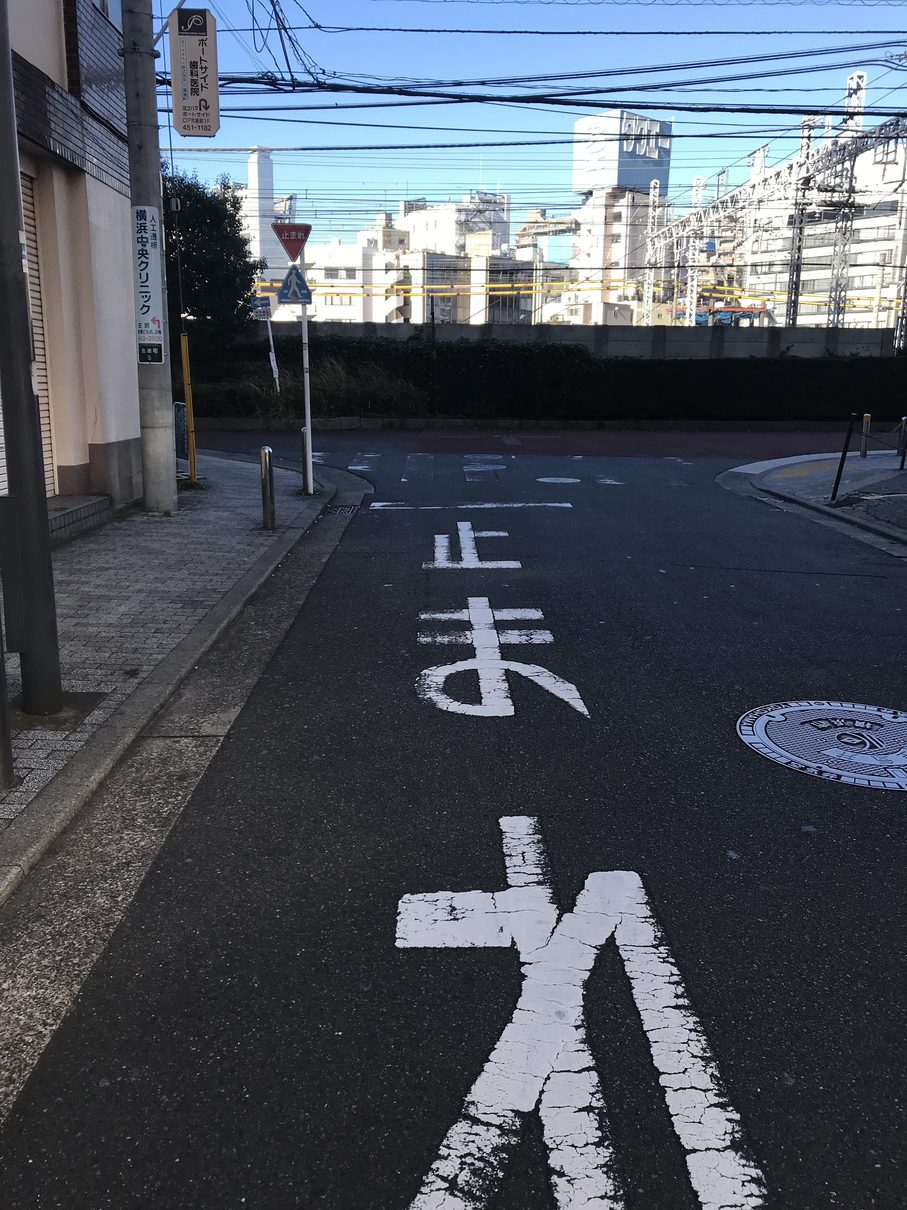stop_sign: (270, 219, 312, 263)
